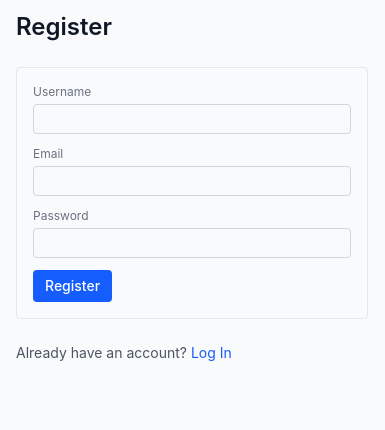
Test: RegisterPage › shows the API error message on failed registration
The image size is (385, 430).
Type "alice" into the field labelled "Username" at [192, 119], box x1=33 y1=104 x2=351 y2=134
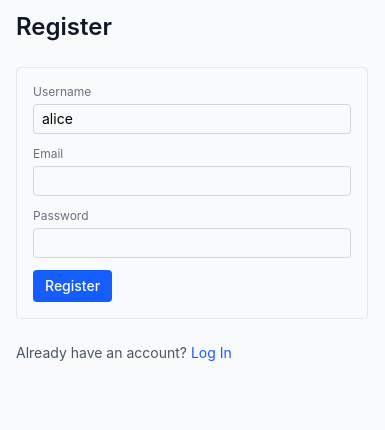
Type "alice@example.com" into the field labelled "Email" at [192, 181], box x1=33 y1=166 x2=351 y2=196
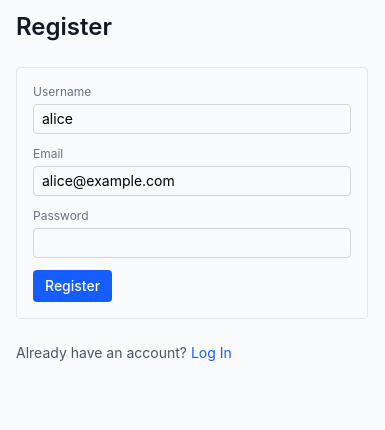
Type "correct-password" into the password field labelled "Password" at [192, 243], box x1=33 y1=228 x2=351 y2=258
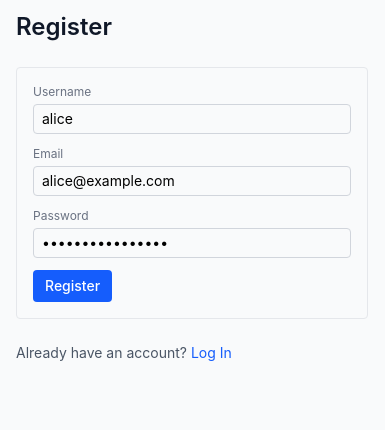
Click the button "Register" at [73, 286], box x1=33 y1=270 x2=112 y2=302
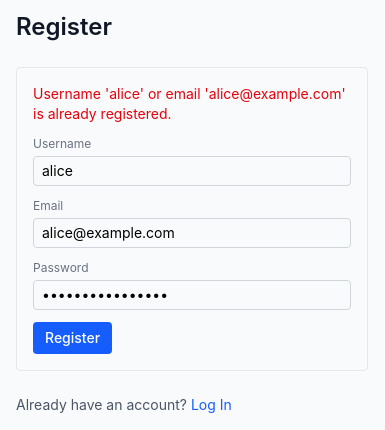
Result: the text "Username 'alice' or email 'alice@example.com' is already registered." is shown at x1=33 y1=84 x2=351 y2=124
